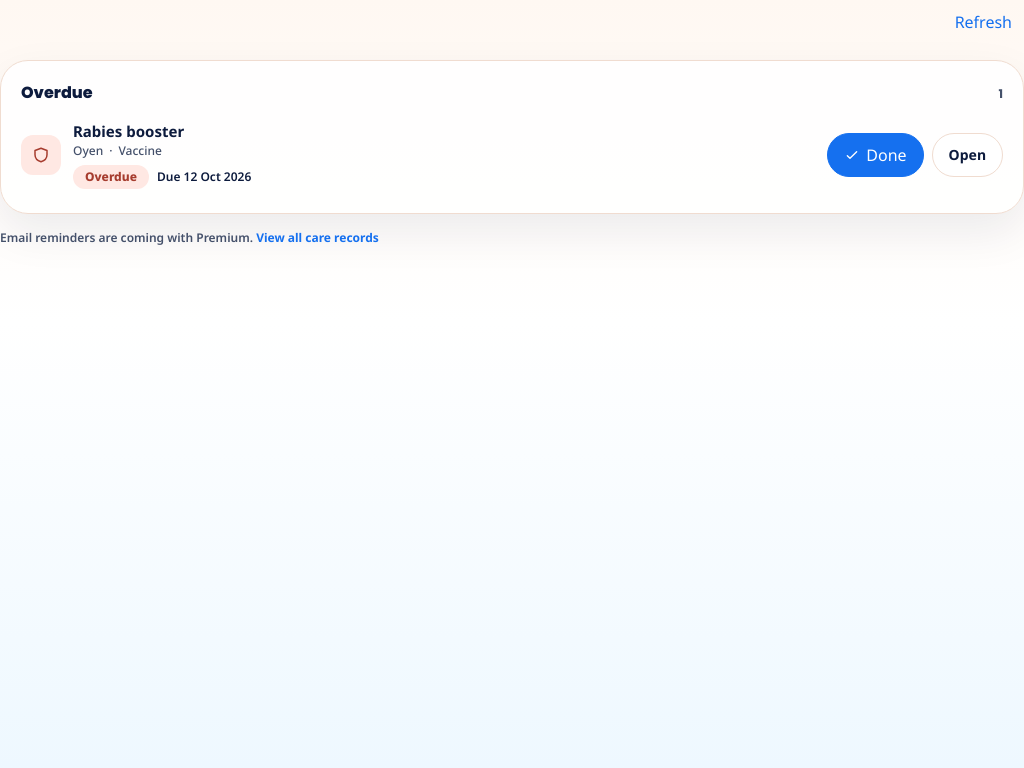
it: A completion attempt outlives its dialog › keeps an unknown attempt after Close, and Review brings back the same details and key
This screenshot has width=1024, height=768.
Click the button with aria-label "Mark Rabies booster for Oyen as done" at (875, 155), box left=827, top=133, right=924, bottom=177
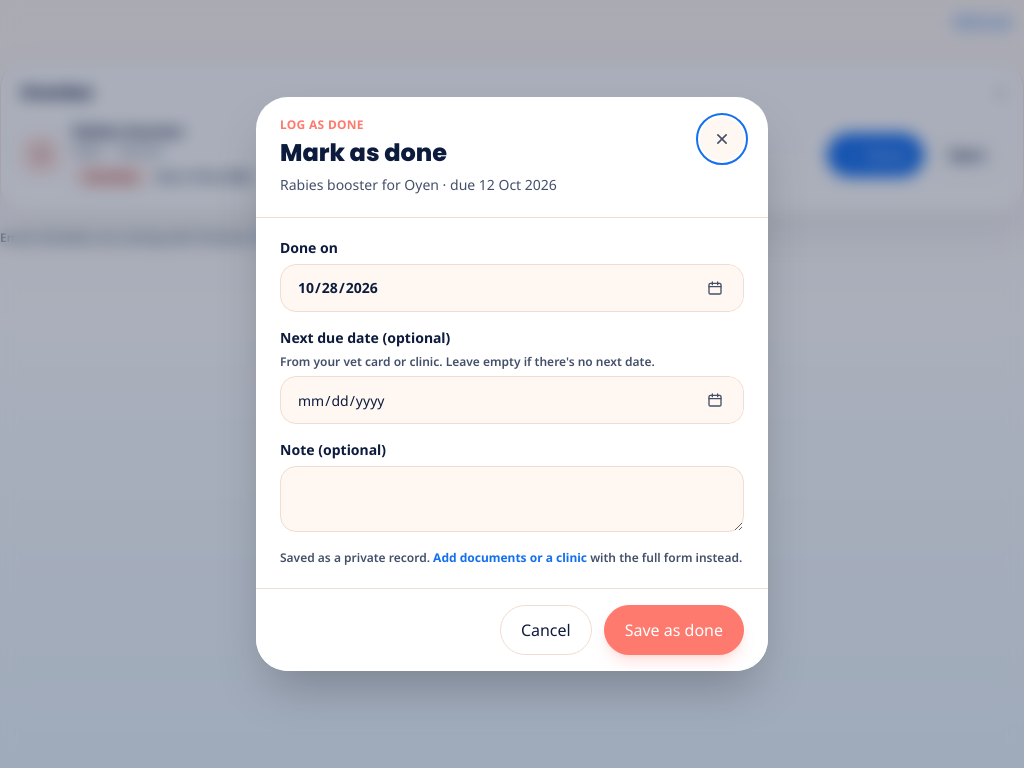
Expected: the dialog "Mark as done" is shown
Type "2027-10-12" into the date field labelled "Next due date (optional)" at (512, 400), box left=280, top=376, right=744, bottom=424
Type "Booster went well" into the text box labelled "Note (optional)" at (512, 499), box left=280, top=466, right=744, bottom=532
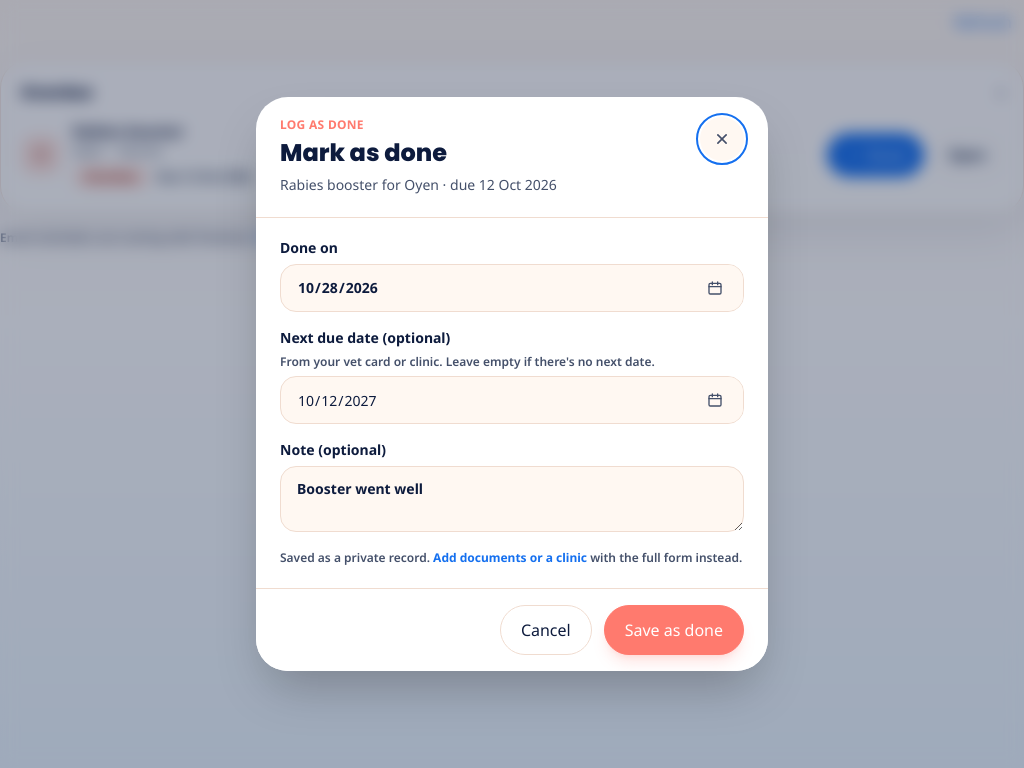
Click the button "Save as done" at (674, 630), box left=604, top=605, right=744, bottom=655
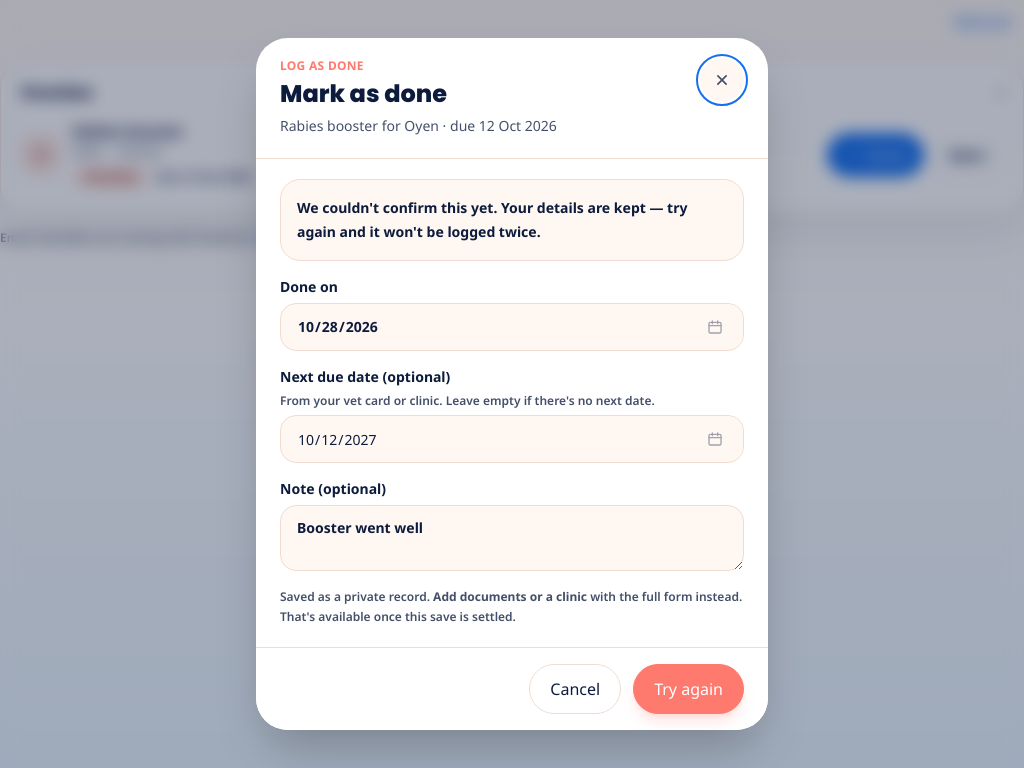
Expected: the text "We couldn't confirm this yet" is shown, left=297, top=198, right=687, bottom=241
Click the button "Cancel" at (575, 689), box left=529, top=664, right=621, bottom=714
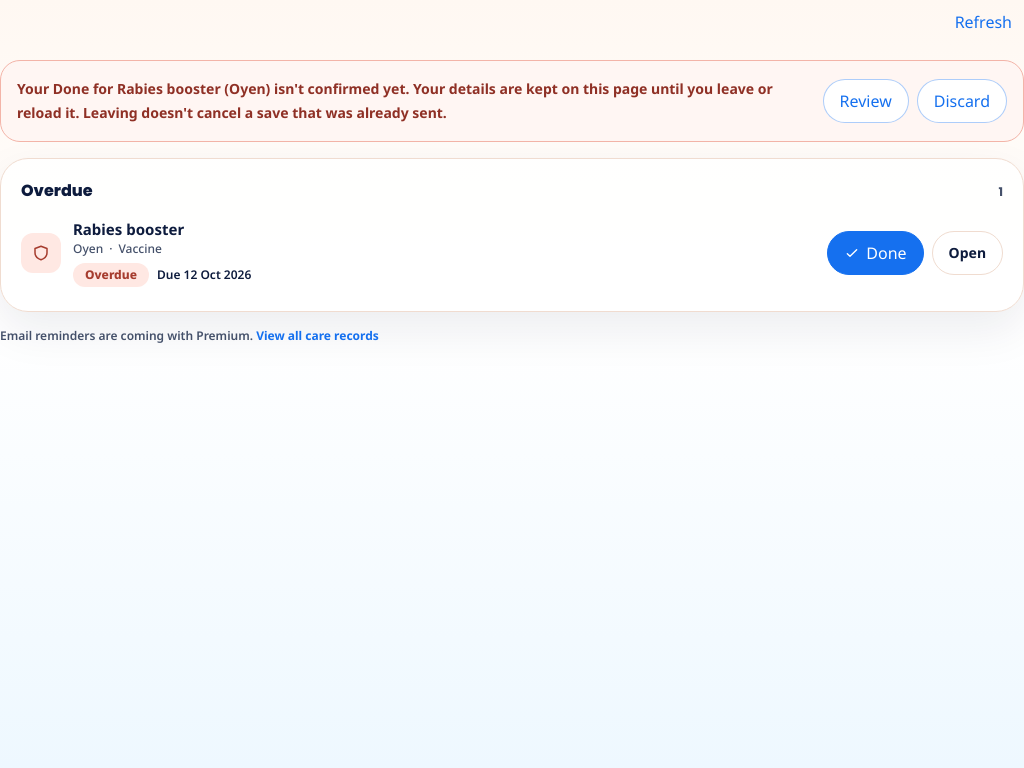
Expected: the text "Leaving doesn't cancel a save that was already sent" is shown, left=17, top=79, right=773, bottom=122
Click the button "Review" at (866, 101), box left=822, top=79, right=909, bottom=123
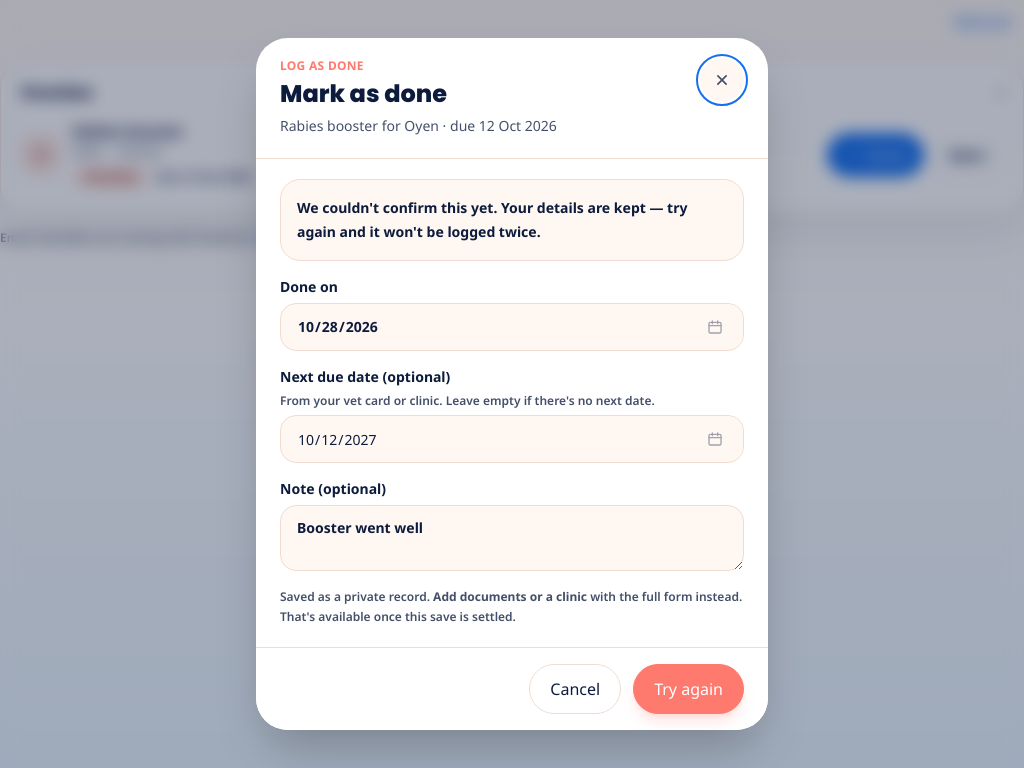
Expected: the dialog "Mark as done" is shown
Expected: the text box labelled "Note (optional)" holds "Booster went well", left=280, top=505, right=744, bottom=571
Expected: the date field labelled "Next due date (optional)" holds "2027-10-12", left=280, top=415, right=744, bottom=463
Click the button "Try again" at (689, 689), box left=633, top=664, right=744, bottom=714
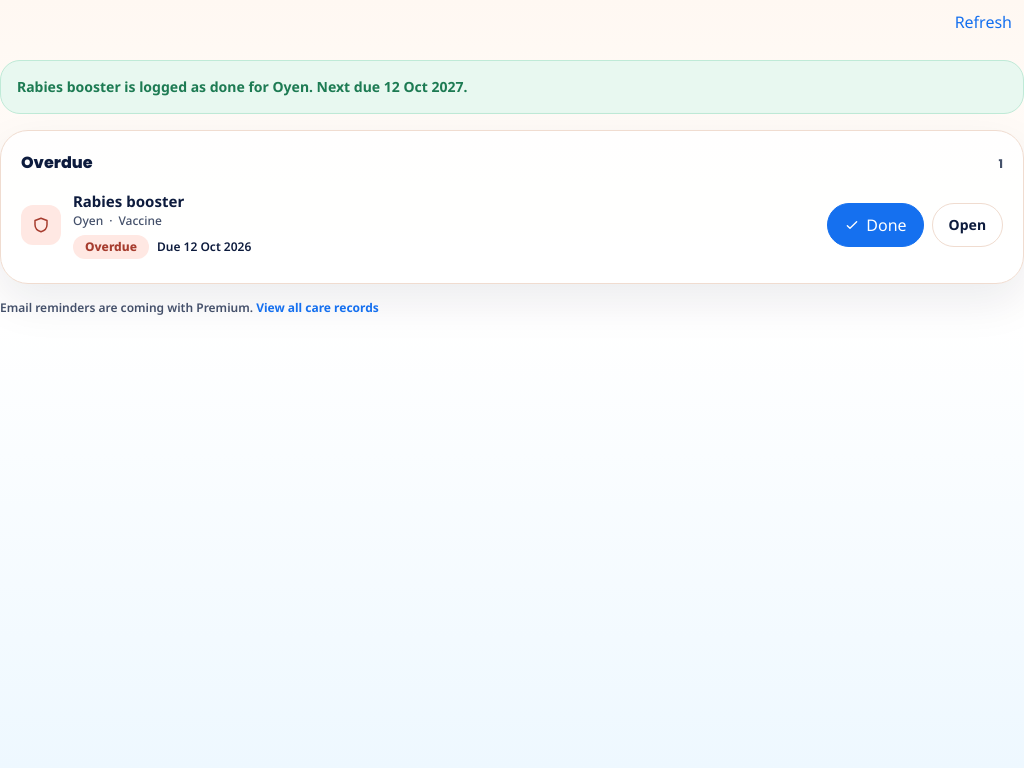
Expected: the text "isn't confirmed yet" is not shown
Expected: the text "Rabies booster is logged as done for Oyen. Next due 12 Oct 2027." is shown, left=0, top=60, right=1023, bottom=114
